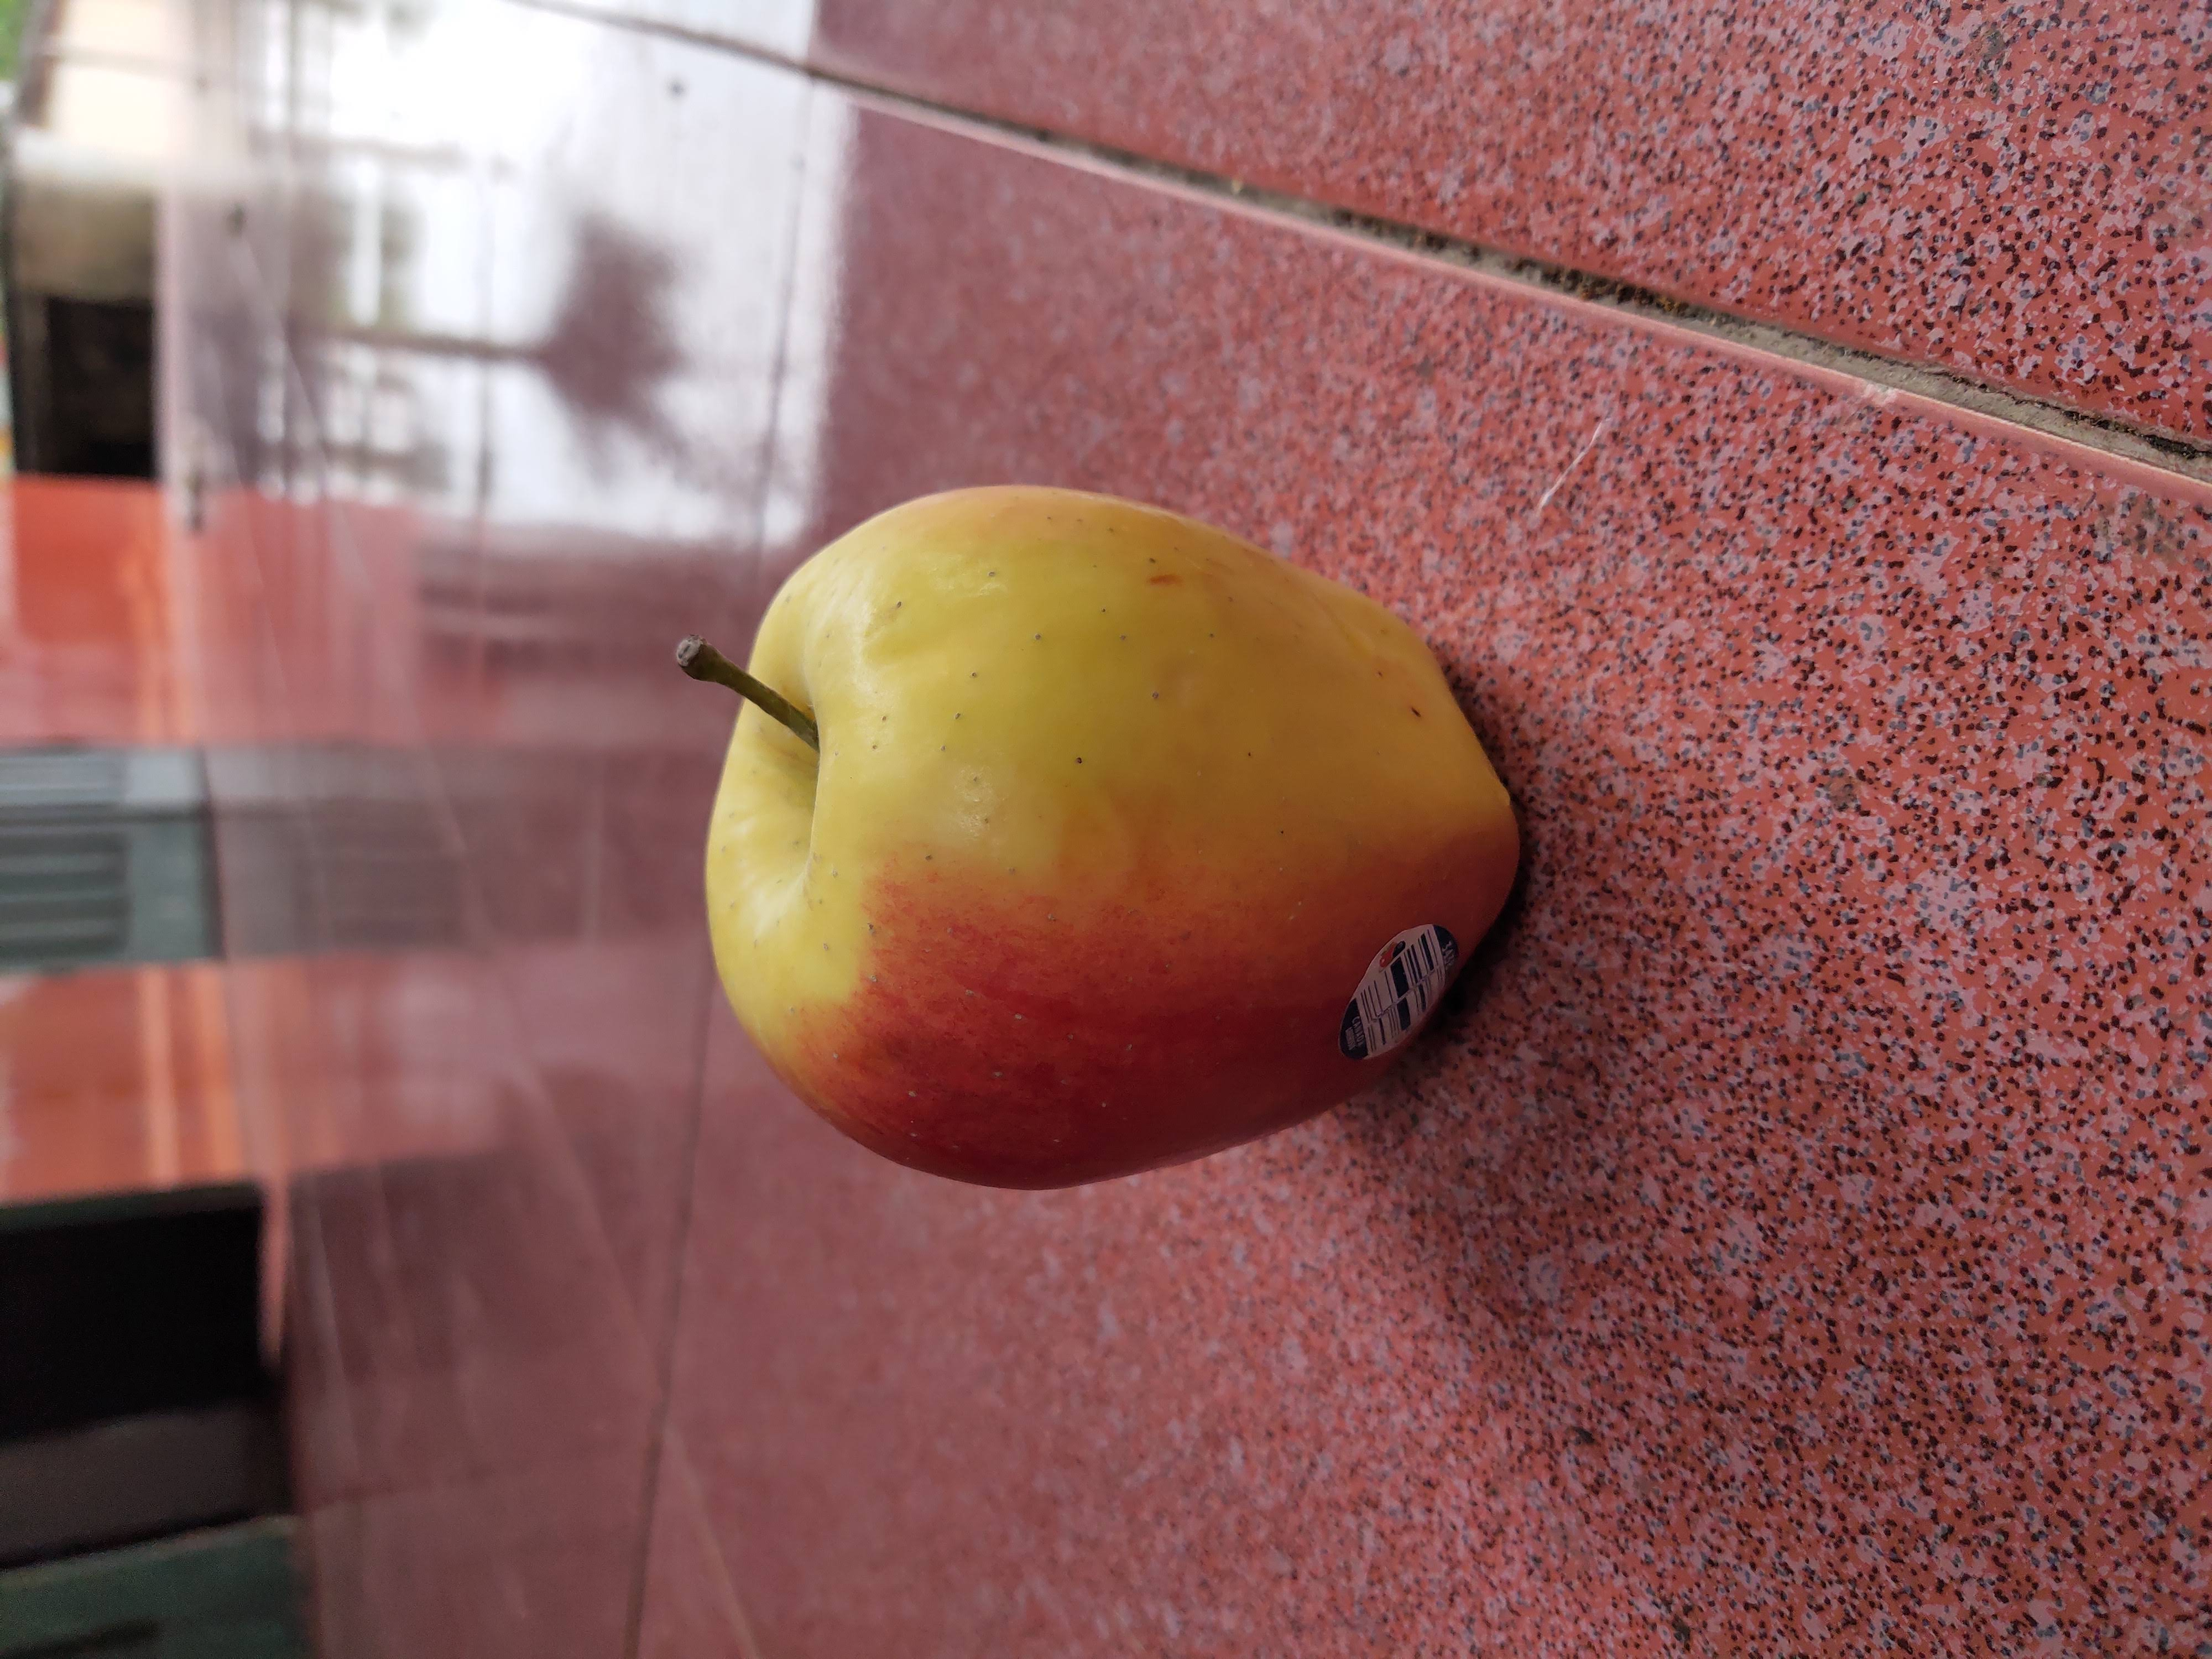apple: (665, 472, 1536, 1206)
